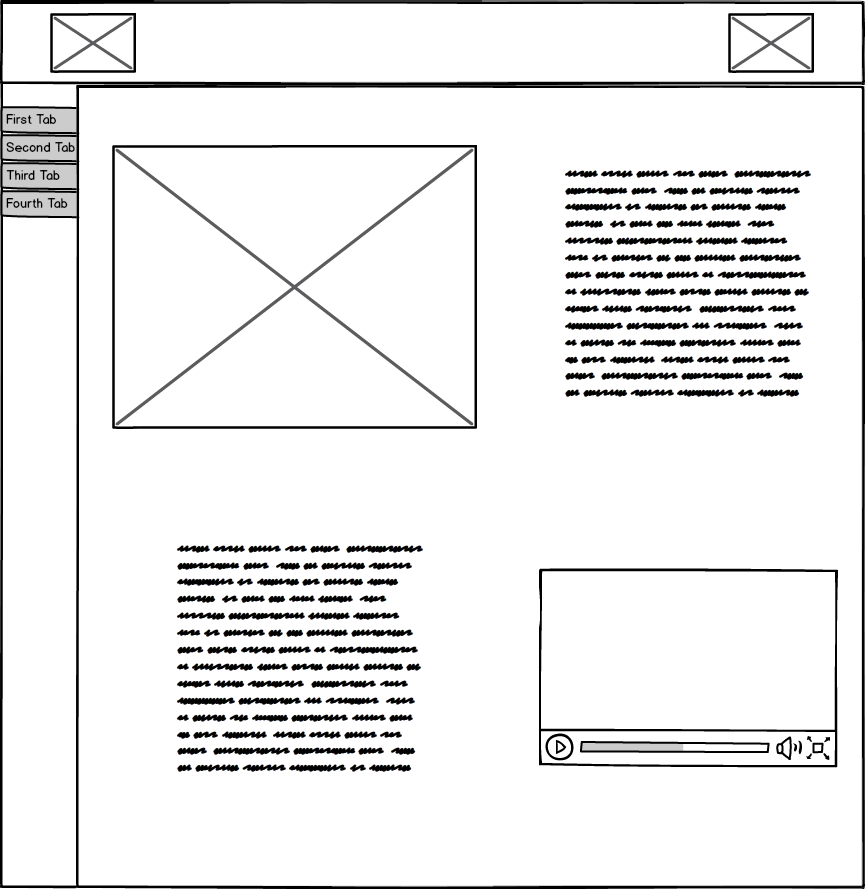image: (105, 138, 490, 439), (725, 8, 821, 77), (45, 8, 143, 75)
p: (170, 539, 428, 785), (560, 166, 814, 402)
sidebar: (1, 101, 86, 220)
video: (537, 559, 841, 771)
